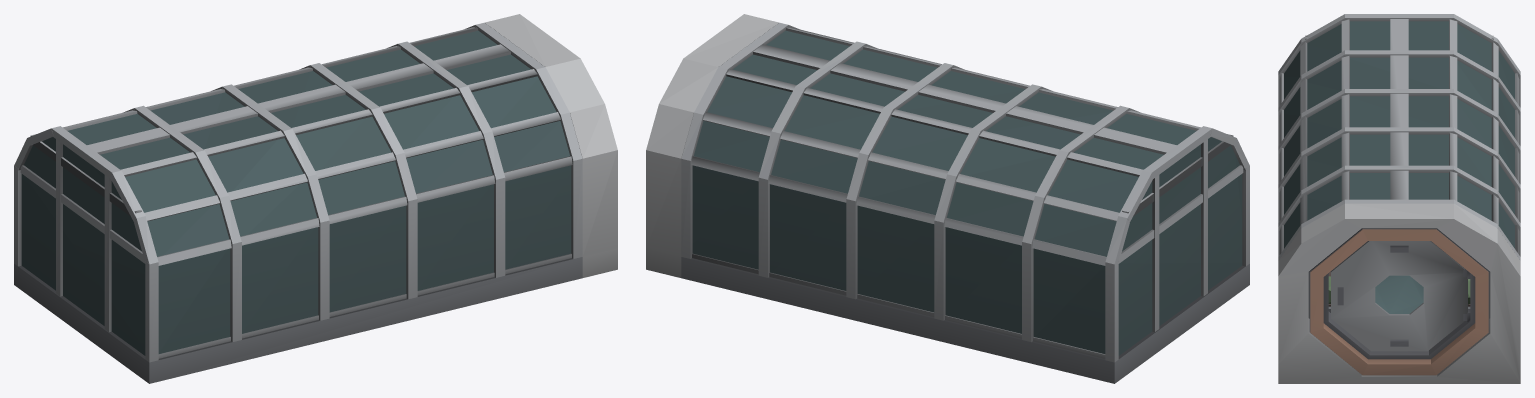
Rendered from gmod.glb.
3 views of the same model, side by side, from view 1: azimuth 30°, elevation 25°; view 2: azimuth 150°, elevation 25°; view 3: azimuth 270°, elevation 25° (orthographic). The views are drawn at different scales.
Parts seen in each view (by area): view 1: gmod; view 2: gmod; view 3: gmod.
Boxes of the visible parts, box(x1,y1,x2,y2) form: gmod: box(14, 14, 617, 383); gmod: box(646, 14, 1249, 383); gmod: box(1278, 14, 1520, 383).
Size of the model in its own units: 11.2 by 4.2 by 5.6.
